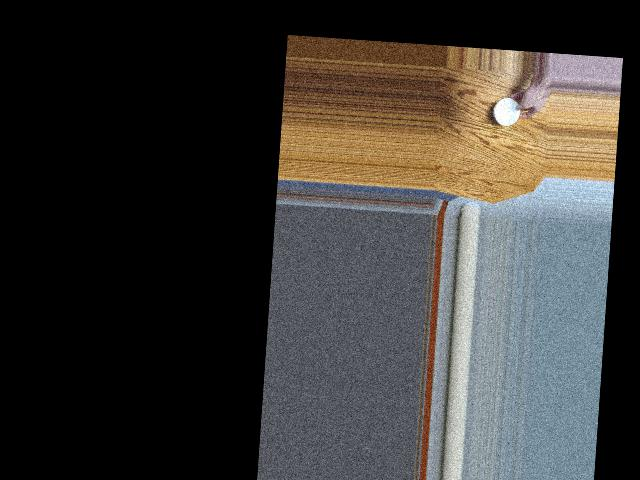cotage: (493, 94, 526, 128)
